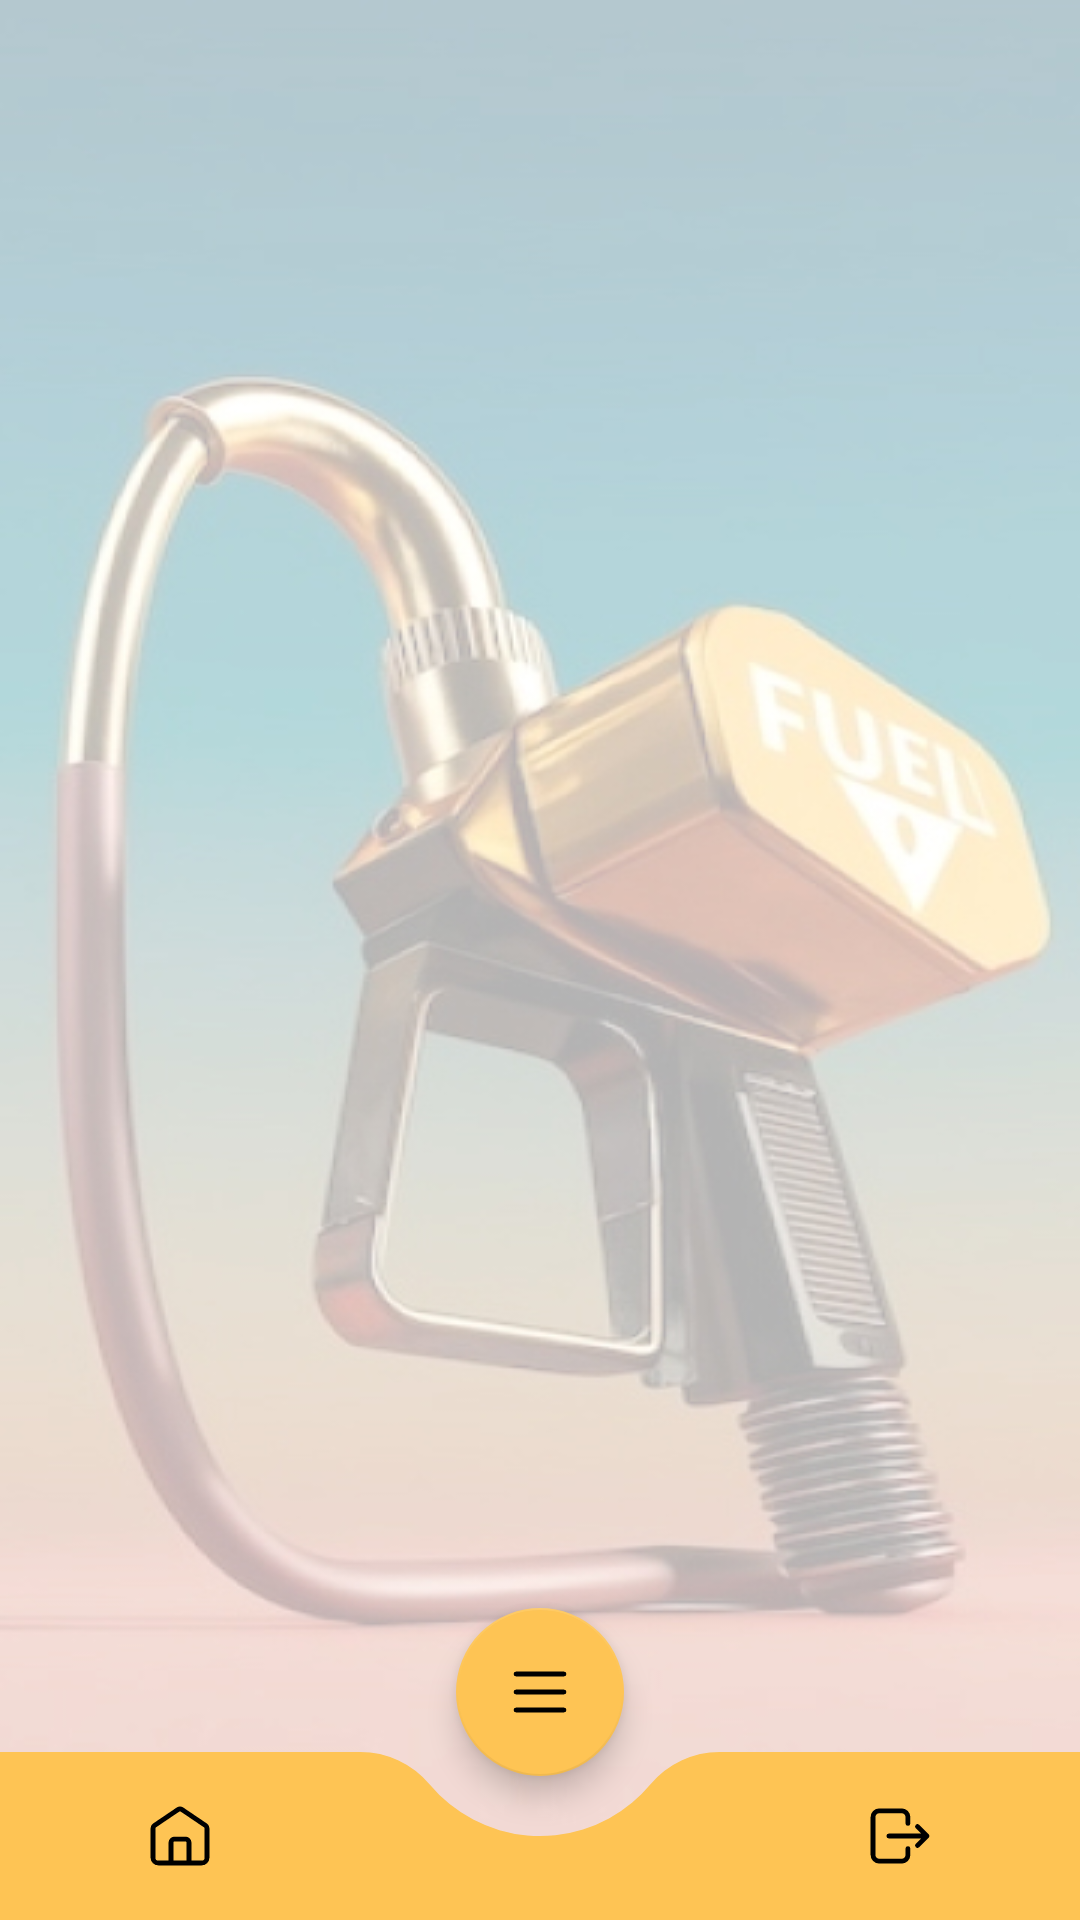

Icons on this 1080px×1920px Android screen, each with the point to tap as point (x, y):
Menu Floating Button: point (540, 1752)
